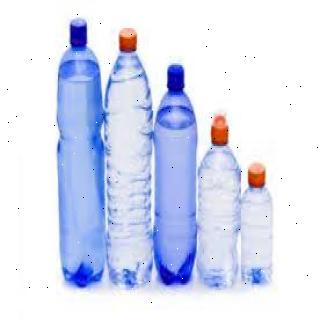Plastic-bottle: (54, 15, 108, 293), (103, 26, 154, 297), (153, 59, 200, 289), (198, 112, 241, 291), (237, 159, 277, 291)
